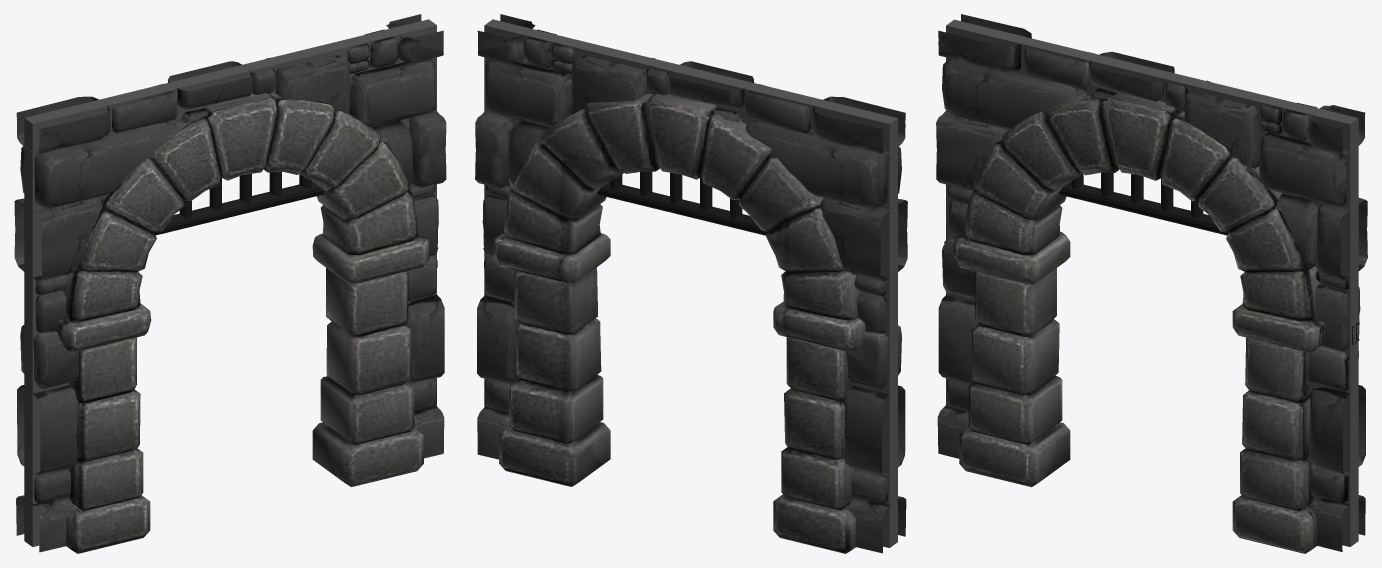
The model's file is Archway_04_BarsTop.fbx.
3 renders of one model, left to right at view 1: azimuth 30°, elevation 25°; view 2: azimuth 150°, elevation 25°; view 3: azimuth 330°, elevation 25°, orthographic.
Parts seen in each view (by area): view 1: Archway_04_BarsTop; view 2: Archway_04_BarsTop; view 3: Archway_04_BarsTop.
Part boxes in pixels (box(x1,y1,x2,y2)): Archway_04_BarsTop: box(14, 14, 446, 553); Archway_04_BarsTop: box(475, 14, 907, 553); Archway_04_BarsTop: box(936, 14, 1367, 553).
Bounding box in the file's own units: 302 × 304 × 49.25.
